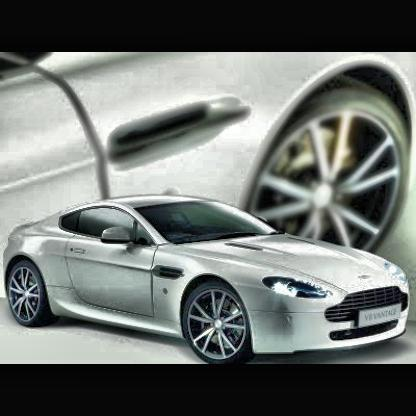Aston Martin V8 Vantage Coupe 2012: (4, 54, 416, 310)
